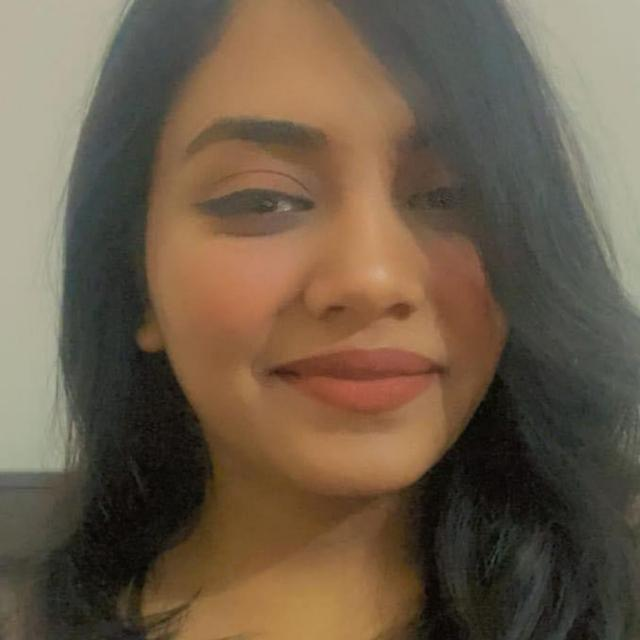Happy: (59, 62, 591, 601)
